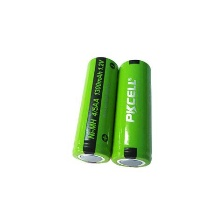battery: (70, 54, 120, 167), (109, 55, 156, 171)
